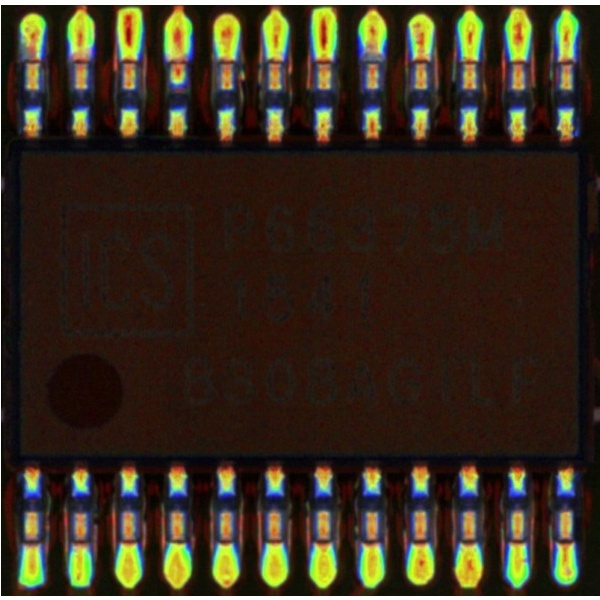Bad_podu: (170, 44, 183, 80), (71, 529, 85, 560), (316, 531, 330, 561), (412, 529, 426, 557), (24, 44, 37, 73), (462, 530, 474, 561), (559, 45, 571, 75), (364, 530, 377, 557), (414, 44, 426, 70), (559, 529, 570, 557), (25, 531, 36, 559), (219, 47, 231, 72), (511, 530, 522, 555)
